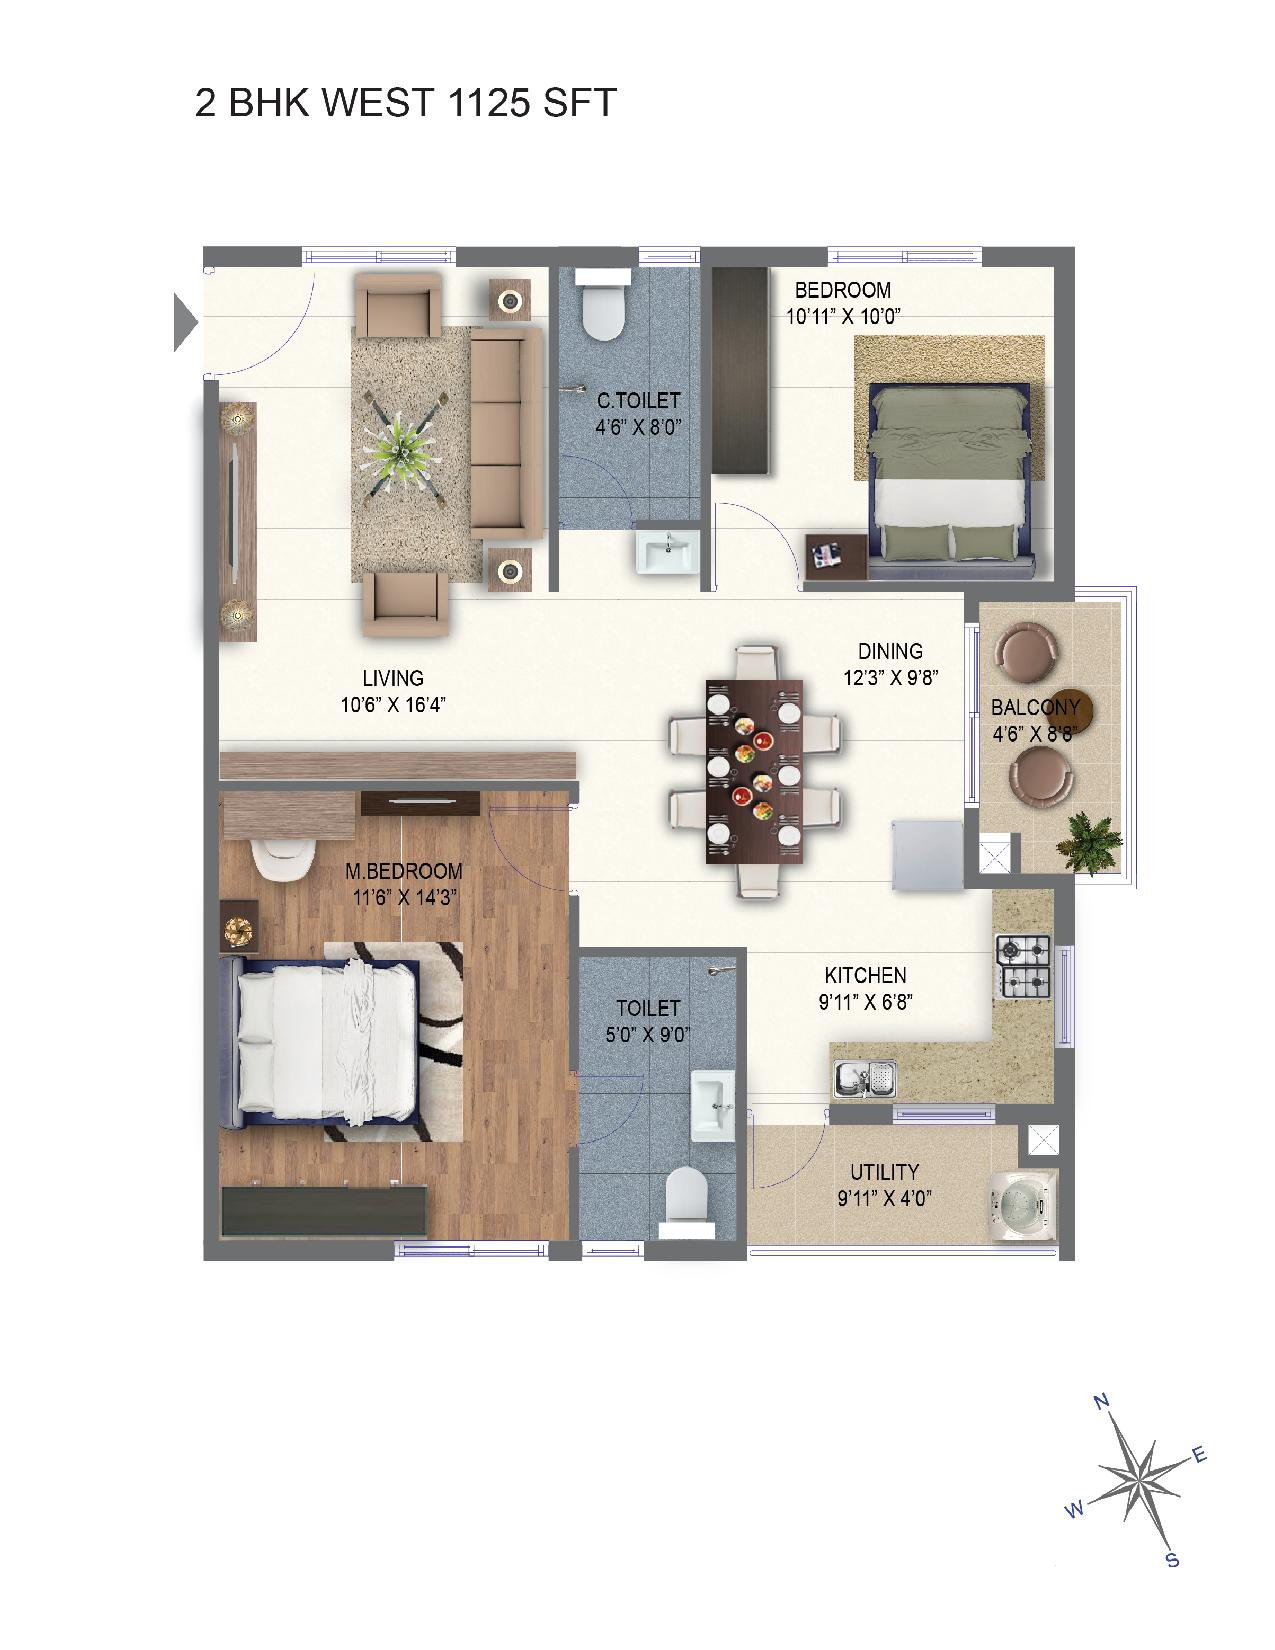window: (958, 620, 984, 810), (300, 242, 458, 268), (825, 245, 983, 269), (1051, 944, 1078, 1050), (636, 245, 700, 269)
